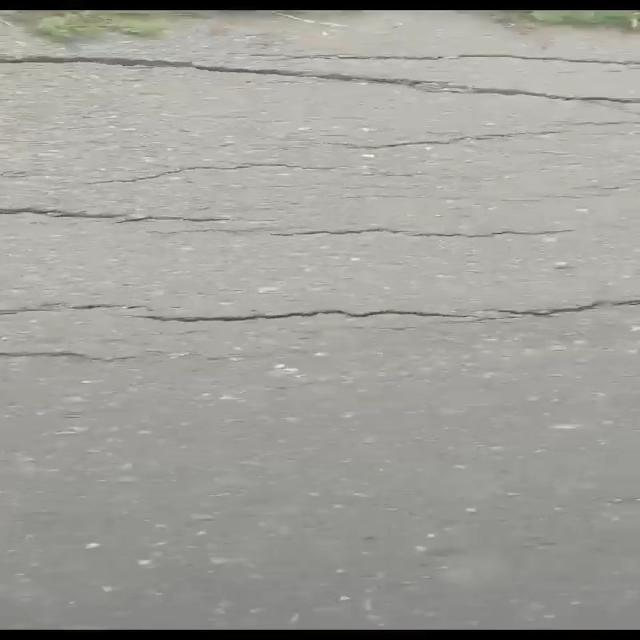Melintang: (0, 45, 640, 125), (0, 287, 640, 336), (0, 195, 570, 250)
